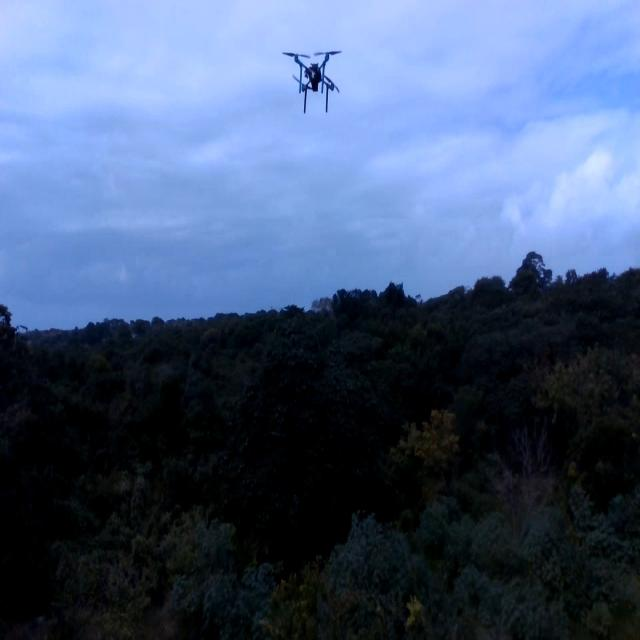-uav-: (276, 40, 346, 121)
